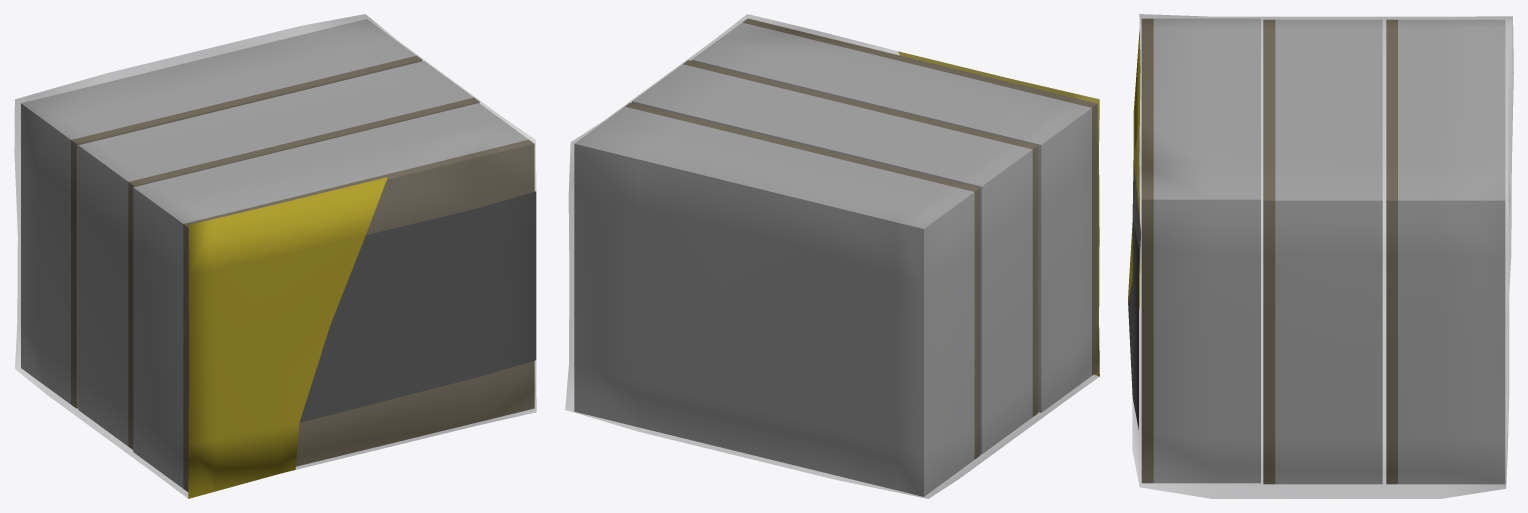
Rendered from sponges.fbx.
3 views of the same model, side by side, from view 1: azimuth 30°, elevation 25°; view 2: azimuth 150°, elevation 25°; view 3: azimuth 270°, elevation 25° (orthographic). The views are drawn at different scales.
Visible parts, largest first — view 1: pCube59, pCube58, pCube56, pCube57; view 2: pCube59, pCube56, pCube58, pCube57; view 3: pCube59, pCube57, pCube56, pCube58.
Boxes of the visible parts, bbox=[...] form: pCube59: bbox=[14, 14, 536, 498]; pCube58: bbox=[133, 103, 534, 491]; pCube56: bbox=[21, 19, 422, 408]; pCube57: bbox=[78, 61, 479, 449]; pCube59: bbox=[565, 14, 1099, 498]; pCube56: bbox=[574, 102, 980, 496]; pCube58: bbox=[691, 18, 1097, 412]; pCube57: bbox=[632, 60, 1038, 454]; pCube59: bbox=[1128, 14, 1513, 498]; pCube57: bbox=[1263, 19, 1382, 484]; pCube56: bbox=[1386, 19, 1505, 484]; pCube58: bbox=[1141, 18, 1260, 483].
Bounding box in the file's own units: 0.2692 × 0.196 × 0.2258.
